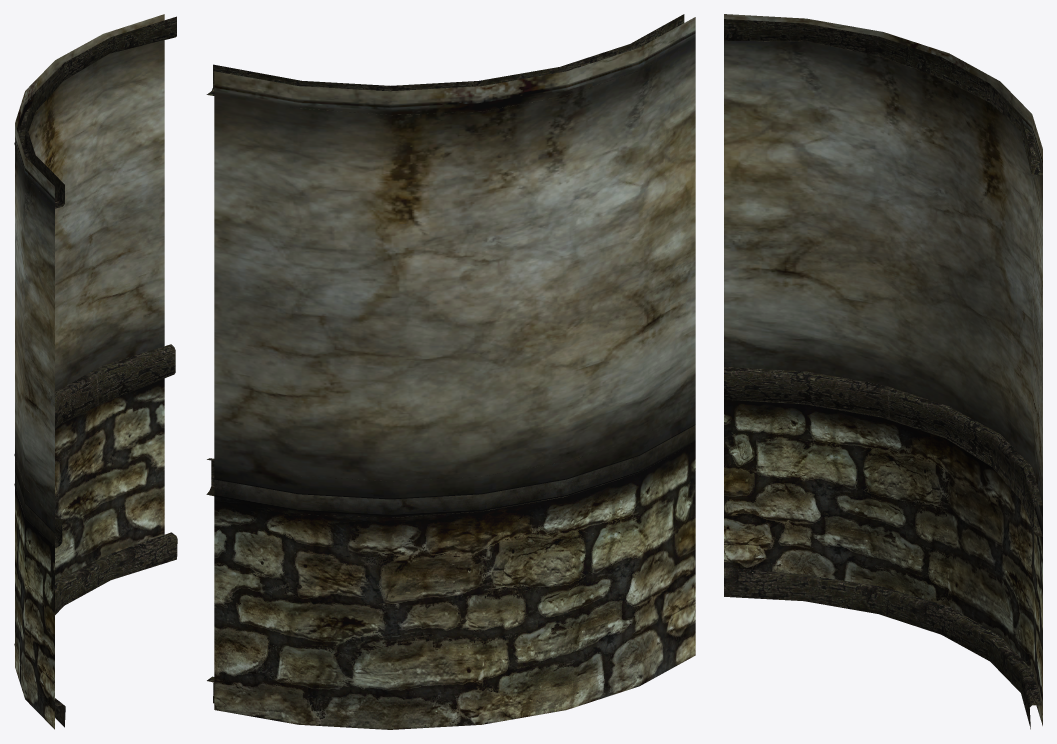
File: cellar_wall_01_corner_small.DAE
3 views of the same model, side by side, from view 1: azimuth 30°, elevation 25°; view 2: azimuth 150°, elevation 25°; view 3: azimuth 270°, elevation 25° (orthographic). The views are drawn at different scales.
Parts seen in each view (by area): view 1: Box050, Box051; view 2: Box050, Box051; view 3: Box050, Box051.
Boxes of the visible parts, left/top/right/bottom form: Box050: left=15, top=14, right=164, bottom=729; Box051: left=14, top=16, right=177, bottom=727; Box050: left=214, top=17, right=695, bottom=729; Box051: left=206, top=14, right=684, bottom=704; Box050: left=724, top=14, right=1042, bottom=725; Box051: left=724, top=19, right=1042, bottom=729.
Bounding box in the file's own units: 2.05 × 4 × 2.
